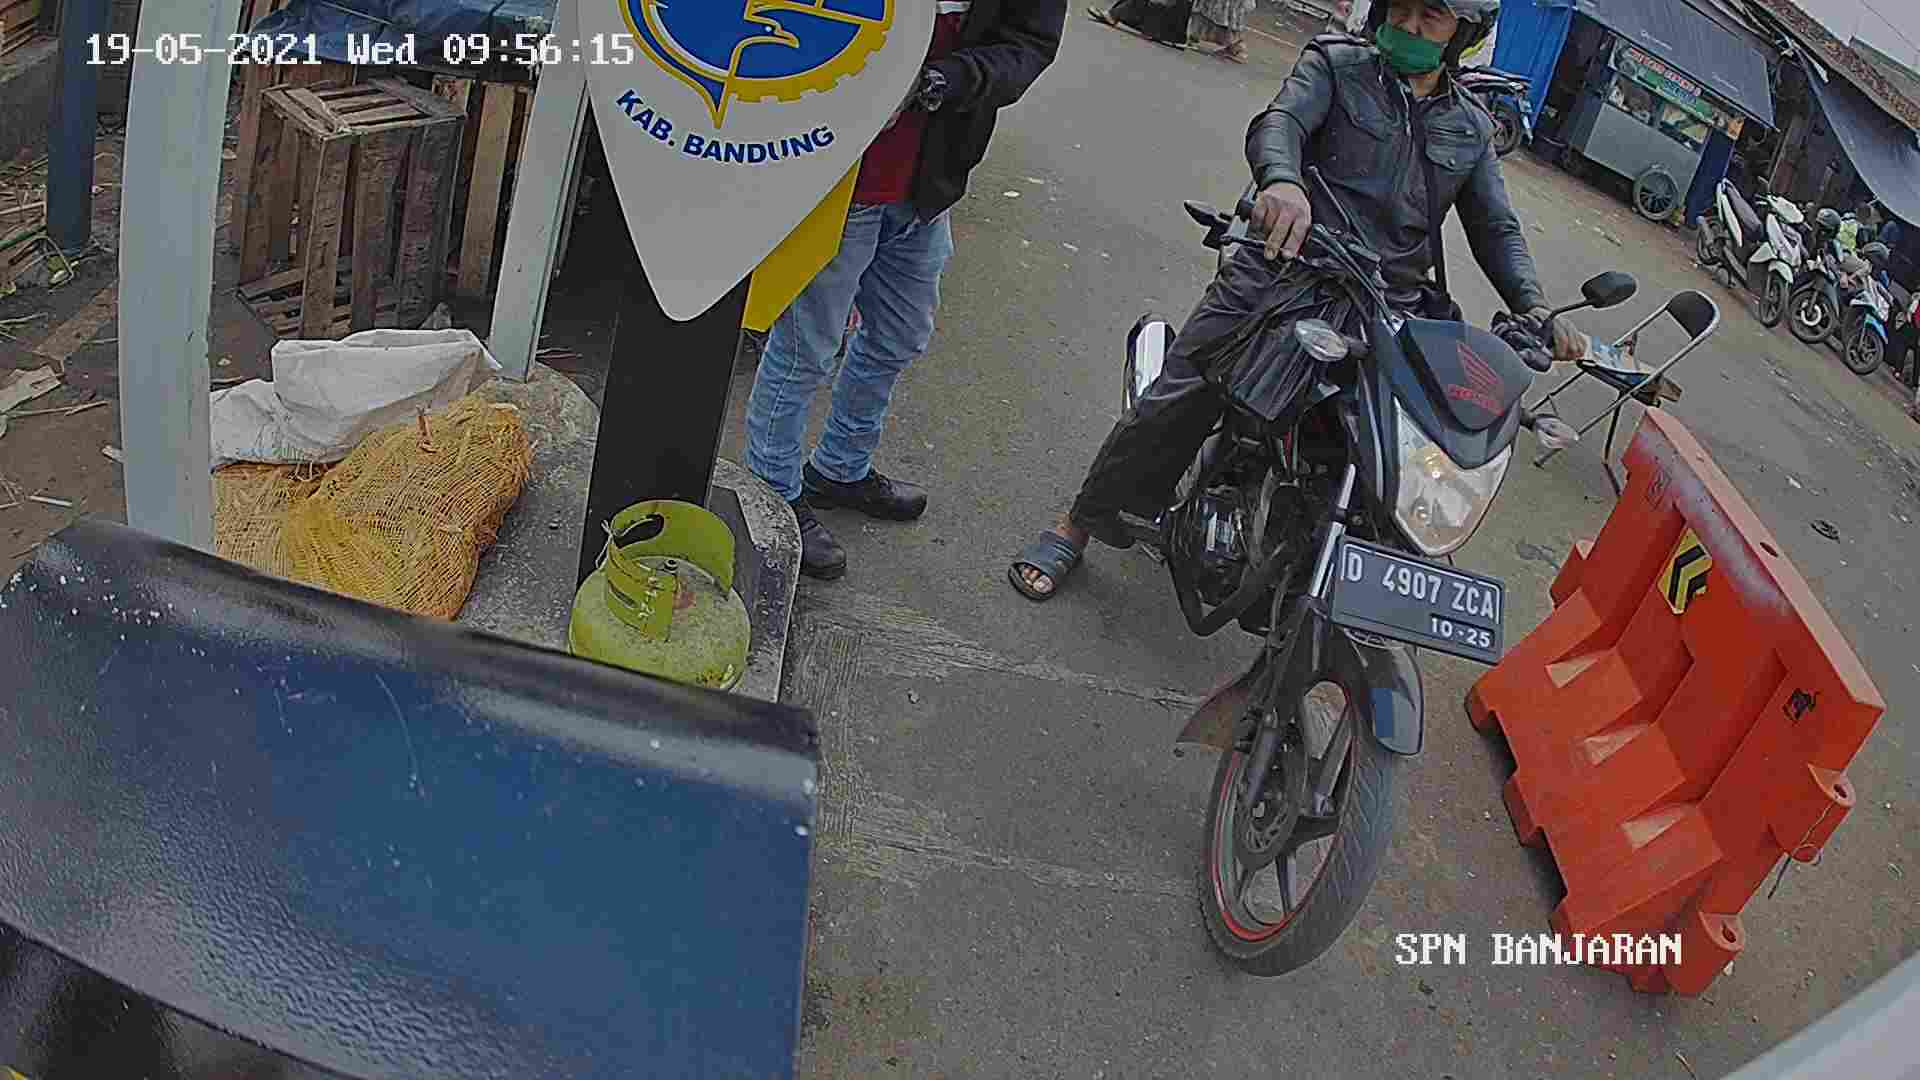motor: (1130, 240, 1592, 947)
